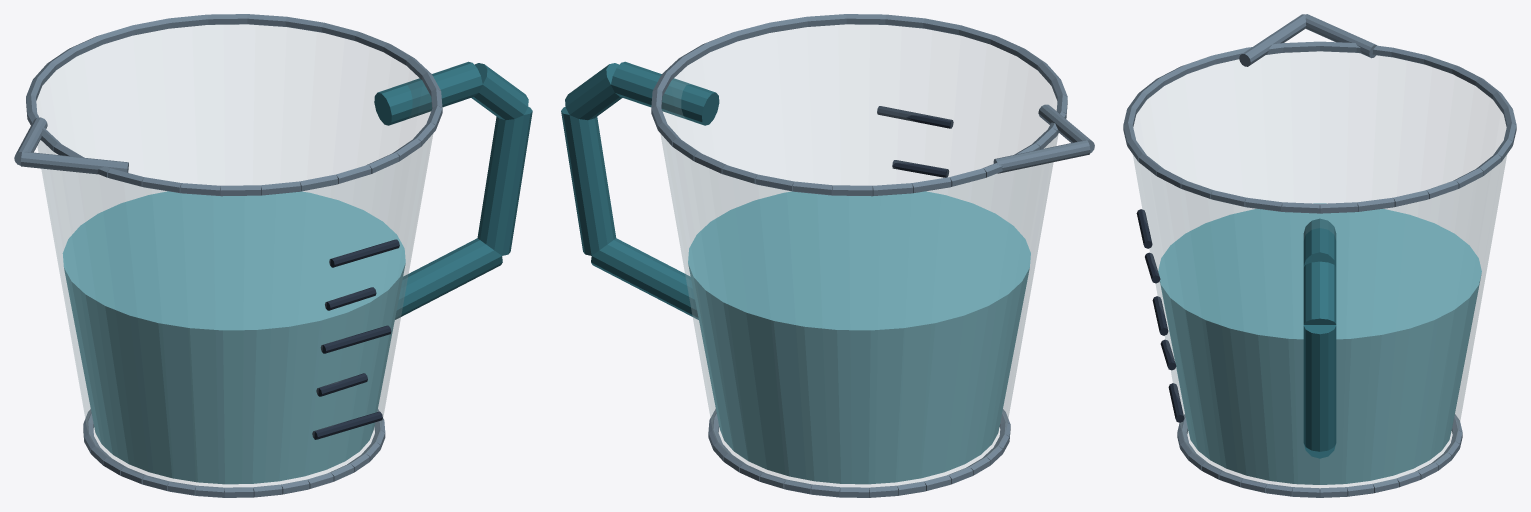
The model's file is jug.glb.
3 views of the same model, side by side, from view 1: azimuth 30°, elevation 25°; view 2: azimuth 150°, elevation 25°; view 3: azimuth 270°, elevation 25° (orthographic). The views are drawn at different scales.
Parts seen in each view (by area): view 1: glass wall, liquid, handle2, handle3, handle0, handle1, pour lip0, tick 4, tick 2, tick 0, pour lip1; view 2: glass wall, liquid, handle2, handle3, handle0, handle1, pour lip1, pour lip0, tick 4; view 3: glass wall, liquid, handle2, handle1, handle0, pour lip0, pour lip1.
Boxes of the visible parts, <box> form: glass wall: <box>37,25,432,487</box>; liquid: <box>62,191,405,484</box>; handle2: <box>477,107,532,255</box>; handle3: <box>395,238,502,319</box>; handle0: <box>374,61,482,125</box>; handle1: <box>471,63,528,120</box>; pour lip0: <box>20,151,128,174</box>; tick 4: <box>329,239,399,267</box>; tick 2: <box>320,325,391,353</box>; tick 0: <box>312,411,382,439</box>; pour lip1: <box>14,117,47,165</box>; glass wall: <box>660,25,1058,487</box>; liquid: <box>688,191,1030,484</box>; handle2: <box>561,106,616,255</box>; handle3: <box>591,238,698,319</box>; handle0: <box>611,61,719,125</box>; handle1: <box>565,63,622,120</box>; pour lip1: <box>993,140,1090,173</box>; pour lip0: <box>1038,104,1094,152</box>; tick 4: <box>877,106,953,128</box>; glass wall: <box>1133,52,1506,488</box>; liquid: <box>1158,203,1481,484</box>; handle2: <box>1303,325,1336,451</box>; handle1: <box>1303,261,1336,324</box>; handle0: <box>1303,218,1336,266</box>; pour lip0: <box>1239,14,1306,66</box>; pour lip1: <box>1305,14,1376,58</box>.
Size of the model in its own units: 1.89 by 1.19 by 1.31.
